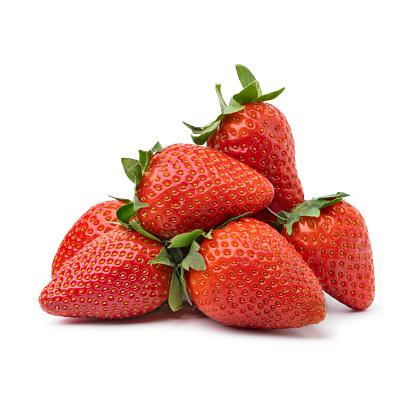strawberry: (180, 219, 328, 330), (124, 138, 269, 242), (37, 229, 180, 325), (280, 195, 378, 310), (206, 94, 302, 208)
